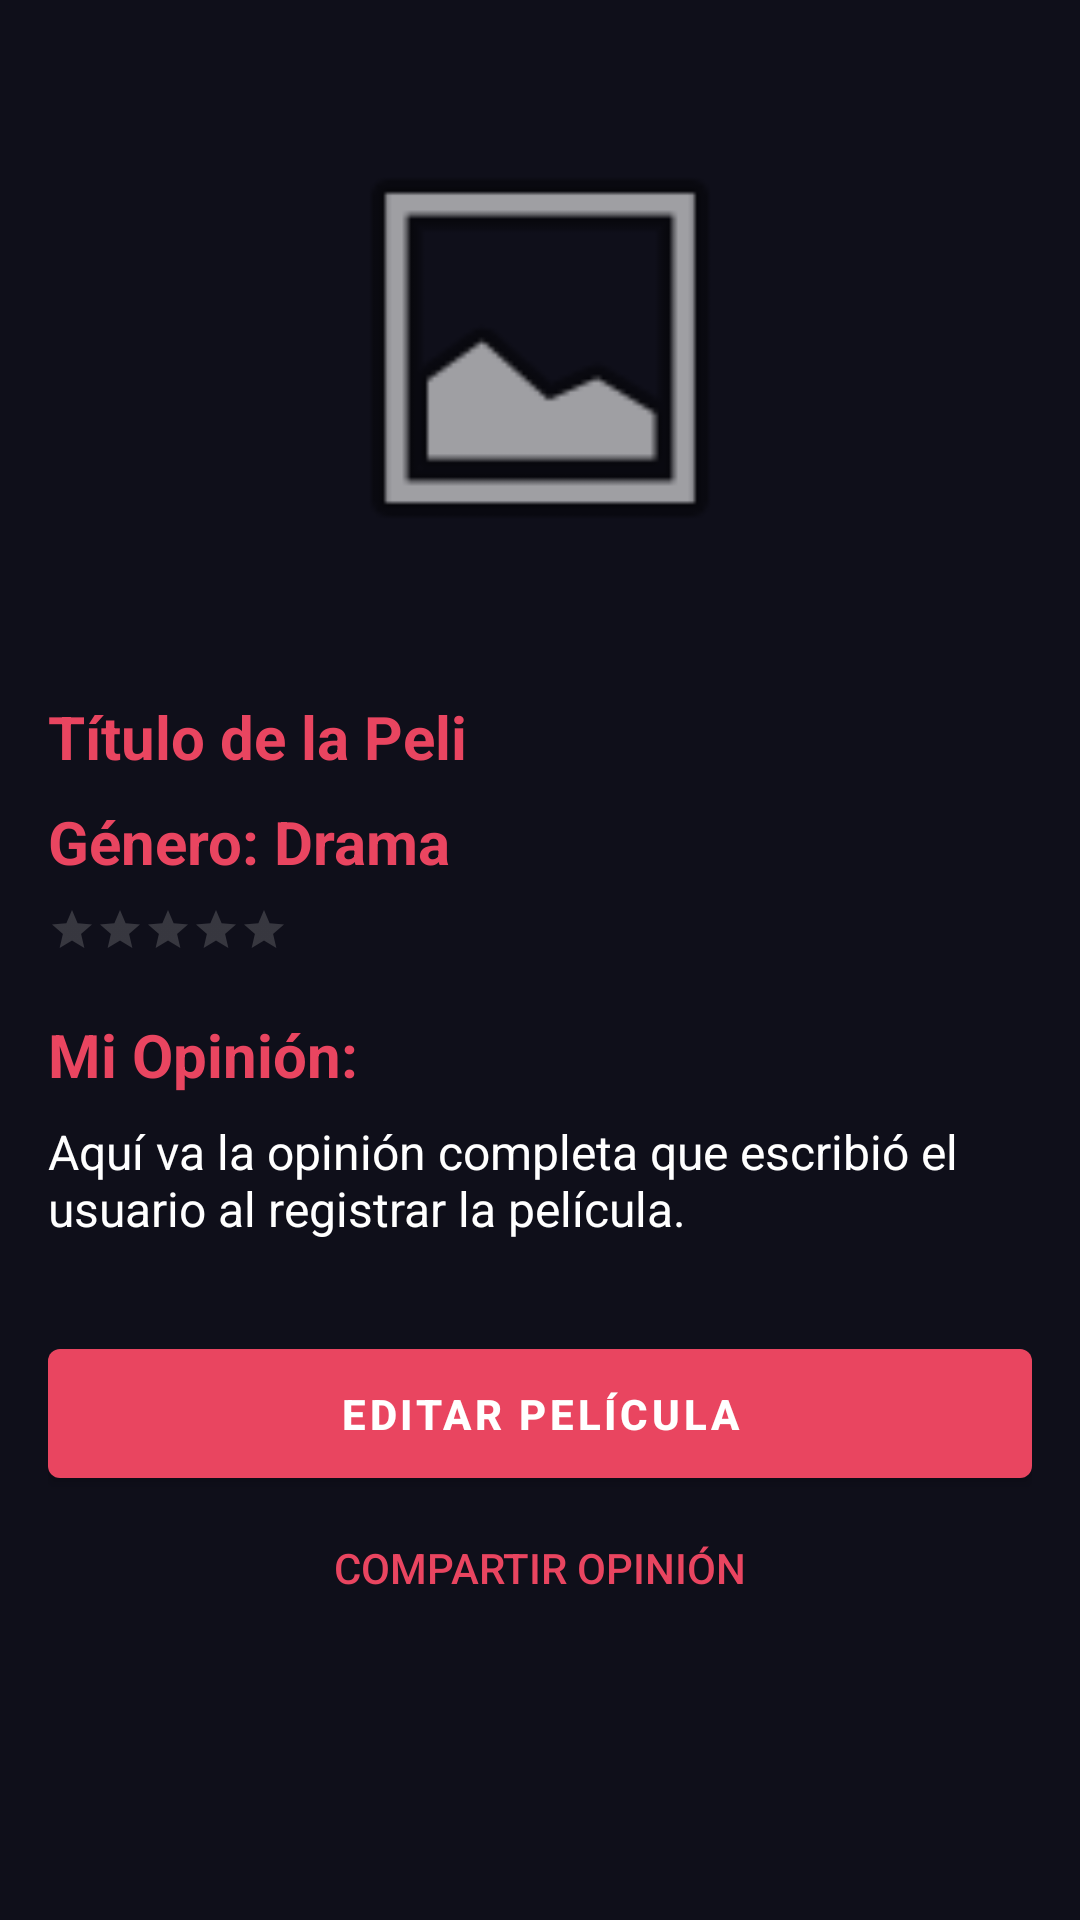

Icons on this 1080 × 1920 Android screen, each with its box as (x1, y1, x2, y2):
gallery: (384, 192, 696, 504)
